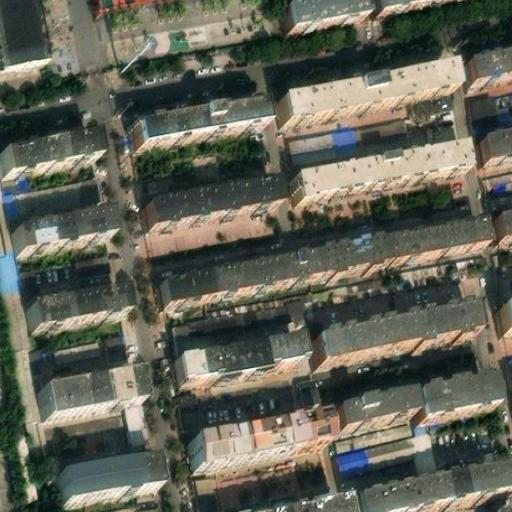building: (273, 62, 452, 122), (292, 137, 465, 196), (314, 296, 480, 356), (179, 408, 317, 464), (148, 253, 286, 304), (351, 469, 512, 512), (142, 176, 275, 225), (133, 94, 265, 141), (169, 297, 303, 341), (42, 364, 143, 415), (59, 450, 159, 498), (1, 169, 101, 216), (281, 234, 385, 278), (27, 286, 124, 330), (336, 428, 437, 470), (0, 132, 95, 176), (380, 216, 476, 259), (15, 210, 110, 253), (413, 366, 498, 414), (175, 336, 266, 380), (334, 383, 417, 422), (0, 248, 31, 341), (272, 0, 360, 28), (65, 493, 161, 512), (466, 92, 512, 131), (464, 44, 512, 79), (48, 338, 102, 369), (121, 396, 152, 443), (261, 328, 302, 362), (476, 126, 512, 157), (97, 331, 128, 366), (496, 302, 512, 343), (492, 209, 512, 236)
